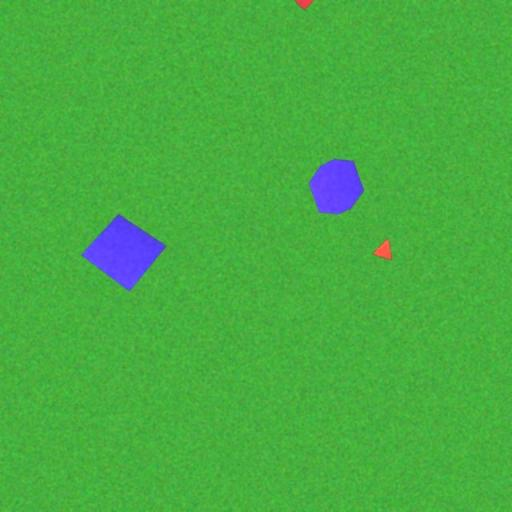BLUE_SQUARE: (80, 213, 167, 292)
